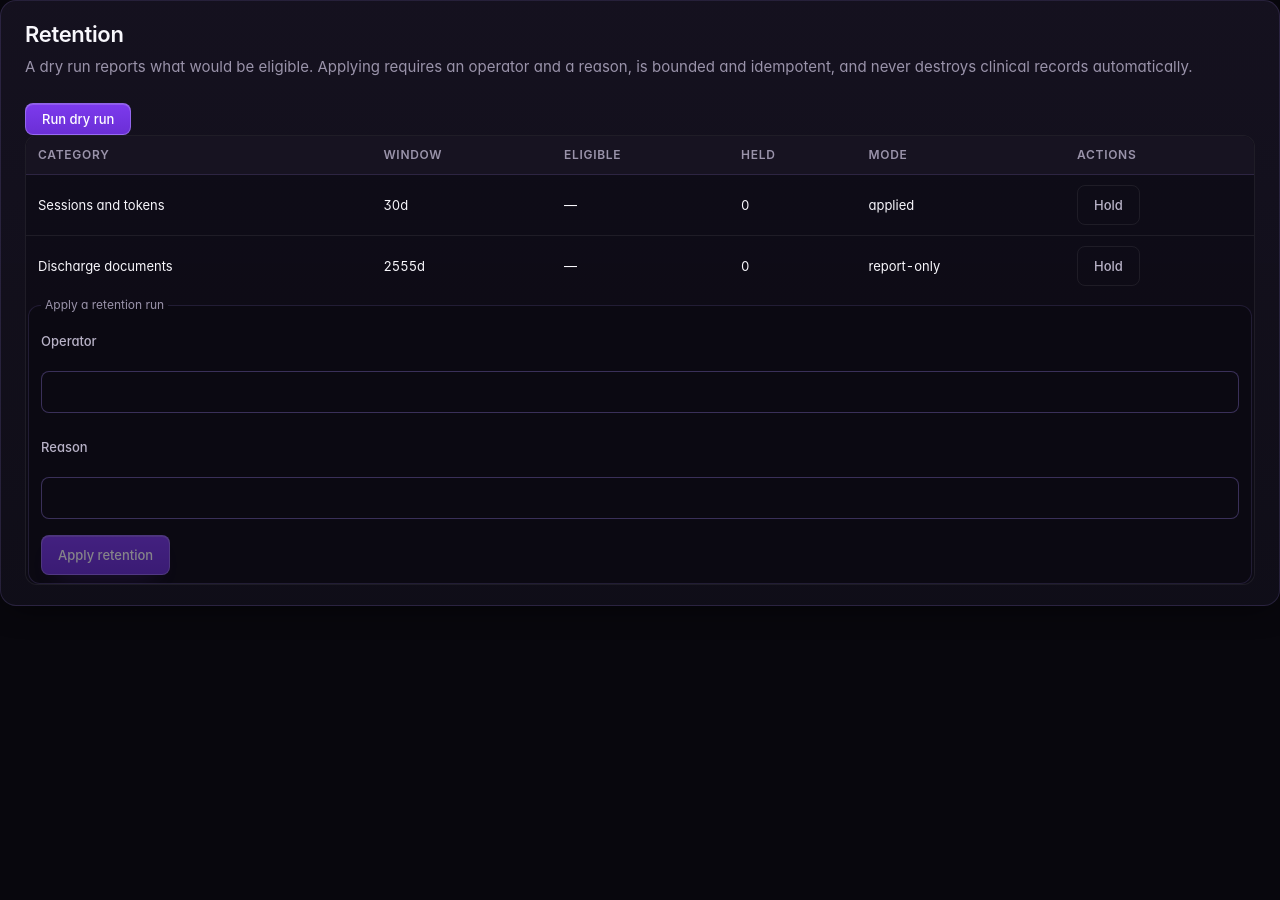
RetentionPanel › runs a dry run, shows report-only categories, and gates apply on operator and reason
Expected: the text "Discharge documents" is shown, x1=26 y1=236 x2=371 y2=296
Expected: the text "report-only" is shown, x1=856 y1=236 x2=1065 y2=296
Click the button "Run dry run" at [78, 119], box x1=25 y1=103 x2=131 y2=135
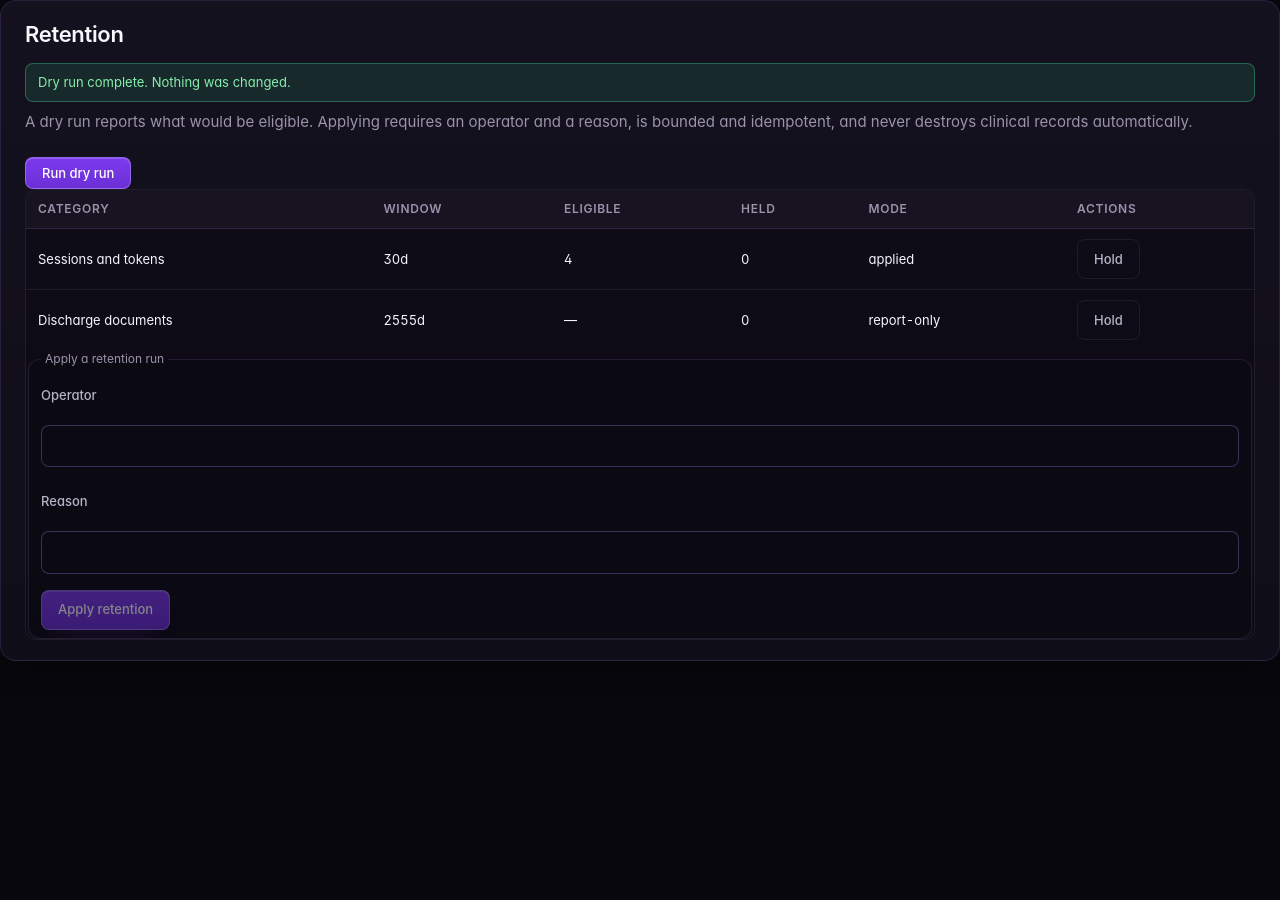
Expected: the button "Apply retention" is disabled, x1=41 y1=590 x2=170 y2=630
Now the text "Dry run complete. Nothing was changed." is shown, box x1=25 y1=63 x2=1255 y2=102
Now the text "4" is shown, box x1=552 y1=229 x2=729 y2=290
Type "Synthetic Admin" into the field labelled "Operator" at [640, 446], box x1=41 y1=425 x2=1239 y2=467
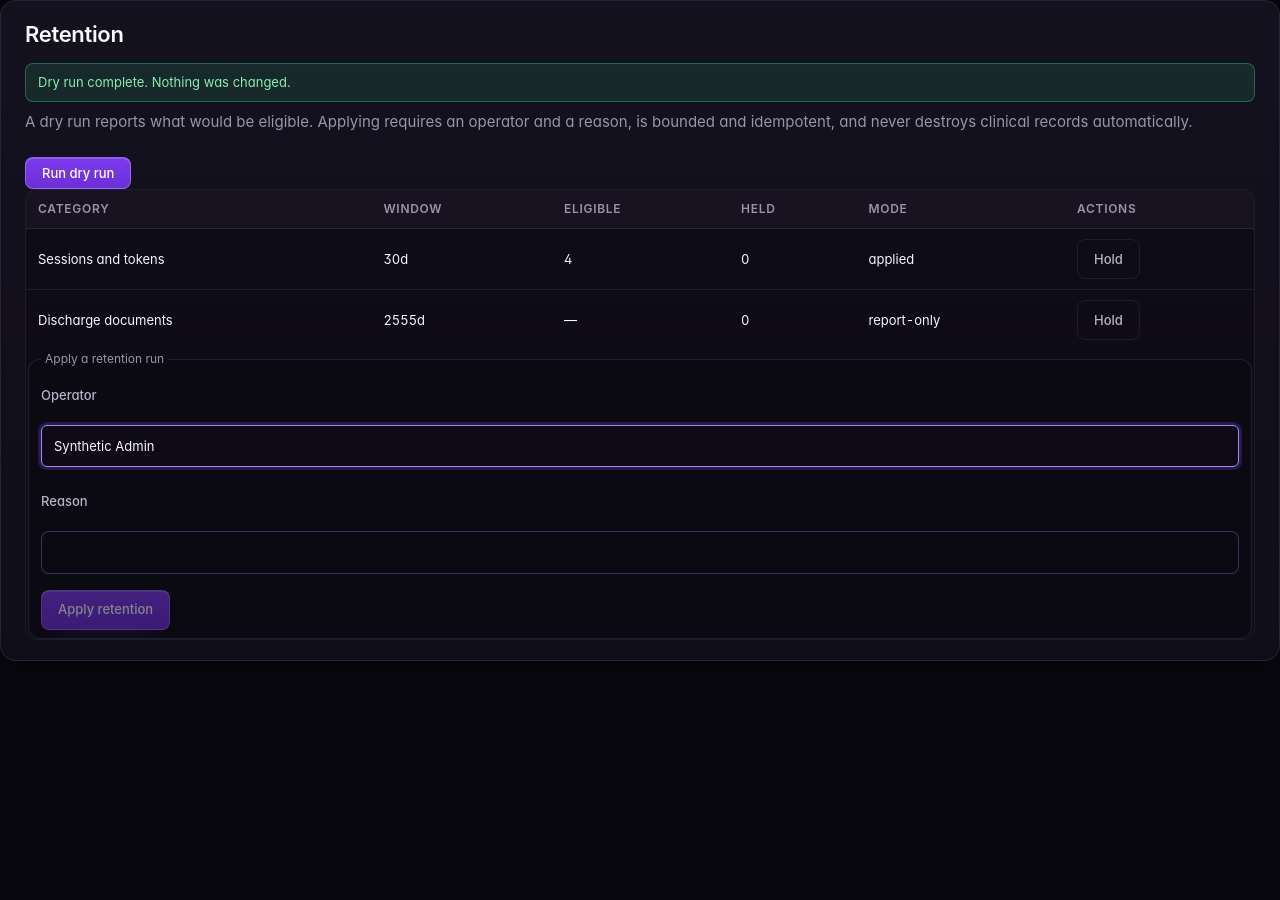
Type "Routine retention sweep per clinic policy." into the field labelled "Reason" at [640, 552], box x1=41 y1=531 x2=1239 y2=574
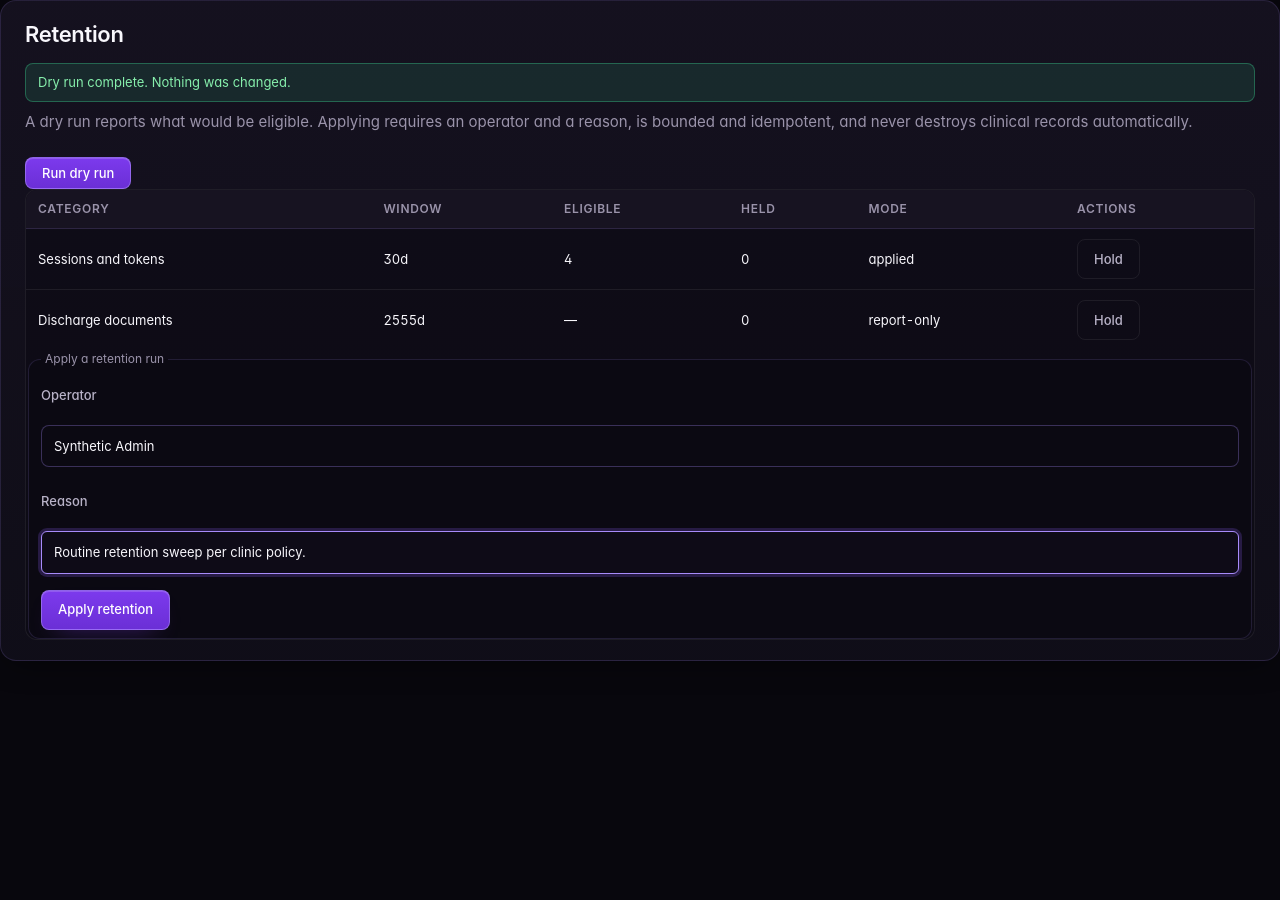
Now the button "Apply retention" is enabled, box x1=41 y1=590 x2=170 y2=630
